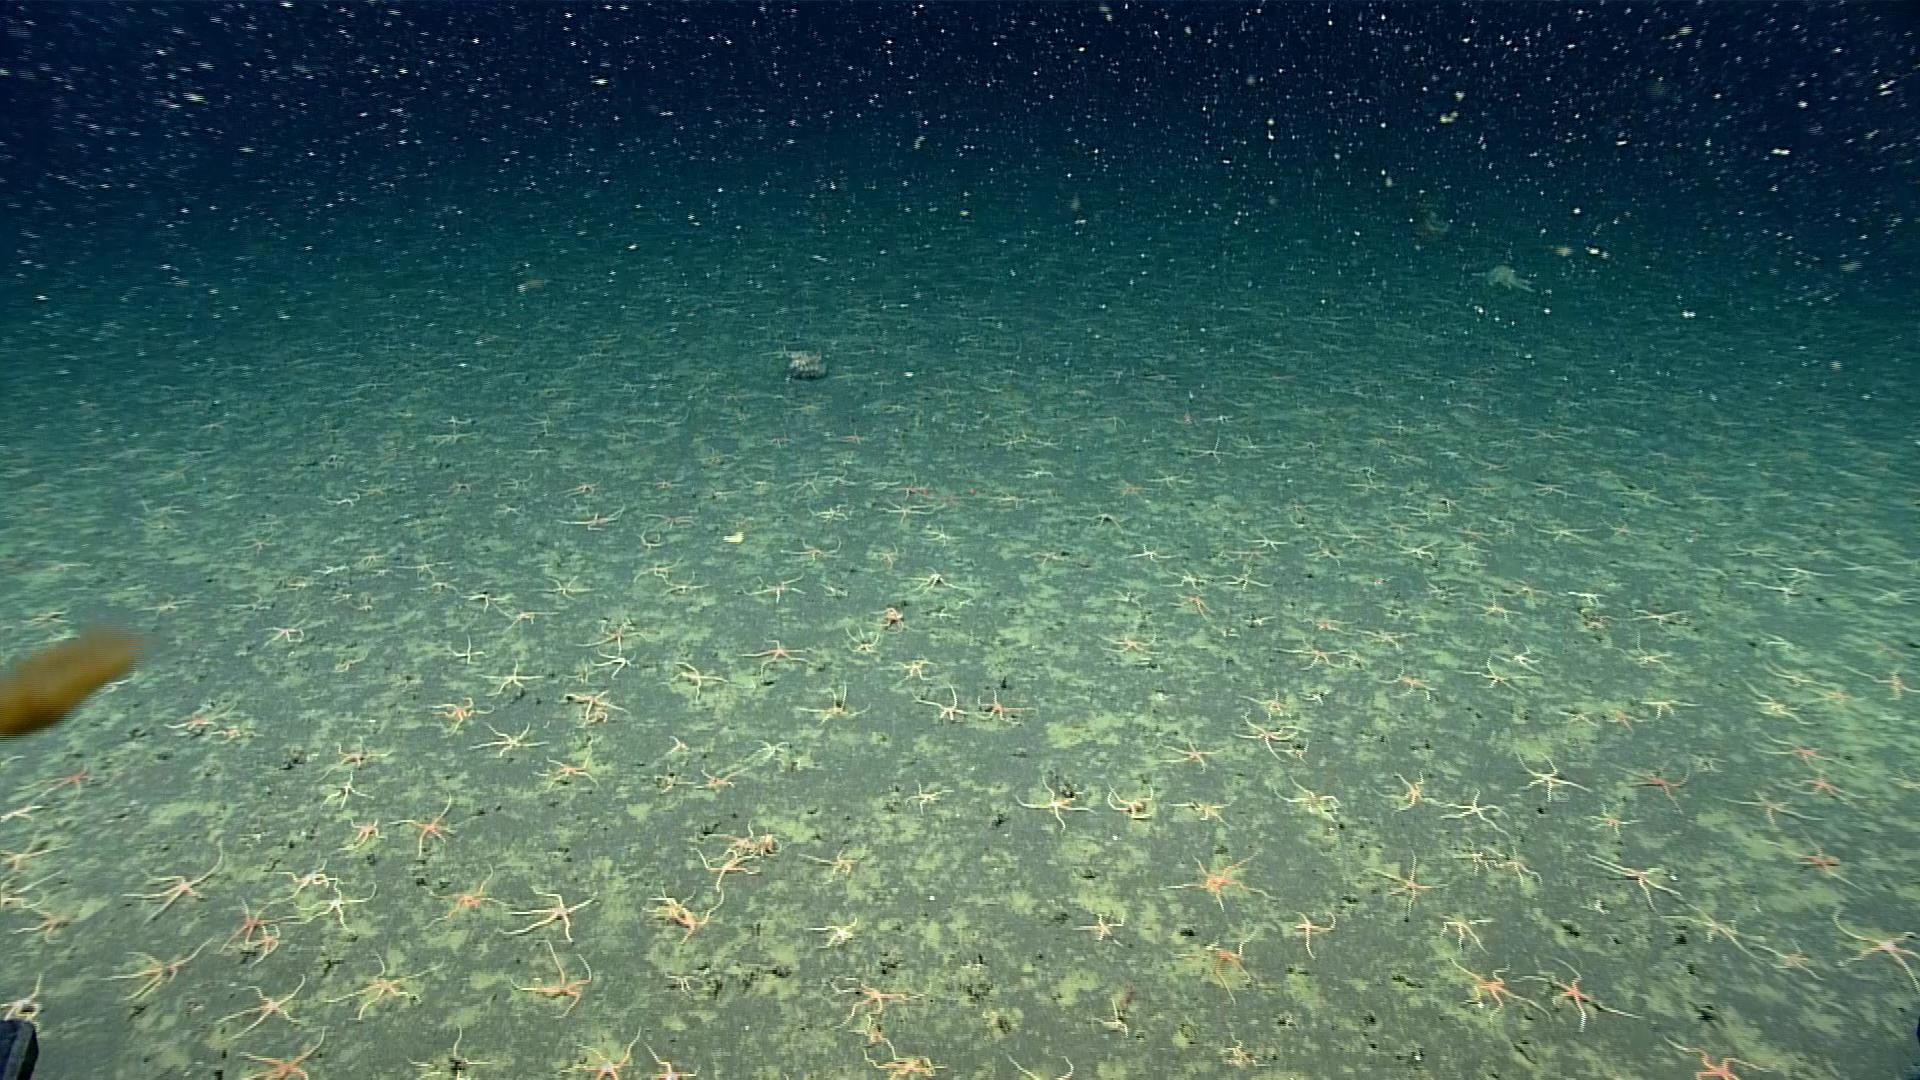brittle_sea_star: (324, 948, 443, 1025), (1519, 960, 1639, 1030), (121, 843, 227, 919), (1824, 905, 1919, 985), (506, 943, 595, 1021), (1156, 852, 1270, 911), (105, 940, 212, 1002), (1774, 828, 1866, 891), (497, 882, 597, 940), (1586, 856, 1687, 914), (215, 973, 307, 1035), (1665, 903, 1766, 959), (1449, 967, 1547, 1023), (229, 1026, 328, 1079), (816, 975, 913, 1029), (642, 881, 723, 943), (1185, 934, 1258, 1002), (425, 864, 500, 928), (406, 1023, 493, 1079), (1362, 856, 1443, 915), (1018, 773, 1097, 832), (388, 791, 456, 857), (1717, 786, 1821, 828), (289, 882, 376, 931), (556, 1029, 641, 1079), (1505, 754, 1592, 802), (220, 898, 281, 963), (1664, 1034, 1751, 1079), (860, 1036, 948, 1079), (695, 836, 758, 894), (791, 679, 864, 729), (1626, 762, 1692, 815), (1842, 659, 1919, 702), (1276, 774, 1346, 820), (21, 765, 92, 810), (469, 716, 545, 758), (527, 568, 601, 609), (1236, 712, 1296, 761), (1441, 787, 1509, 831), (423, 695, 492, 737), (1370, 771, 1439, 814), (1756, 731, 1832, 769), (273, 852, 331, 901), (735, 637, 807, 675), (1458, 657, 1528, 696), (479, 657, 549, 696), (1763, 940, 1826, 984), (533, 752, 600, 793), (562, 686, 626, 727), (1437, 914, 1501, 955), (0, 972, 53, 1019), (1276, 641, 1345, 675), (810, 914, 865, 955), (914, 684, 968, 725), (1799, 773, 1861, 808), (803, 840, 858, 880), (657, 662, 716, 699), (644, 1040, 700, 1079), (1171, 790, 1233, 824), (738, 733, 800, 767), (0, 865, 44, 914), (1163, 735, 1218, 773), (140, 585, 199, 621), (315, 773, 371, 810), (724, 823, 783, 857), (8, 913, 67, 947), (1292, 910, 1337, 955), (1573, 803, 1634, 836), (971, 690, 1029, 724), (1241, 684, 1298, 719), (0, 835, 54, 870), (560, 504, 626, 533), (322, 735, 376, 769), (1079, 913, 1131, 947), (574, 617, 630, 649), (1493, 851, 1539, 889), (1622, 641, 1675, 674), (165, 704, 216, 737), (1101, 628, 1160, 655), (1120, 535, 1182, 562), (1498, 638, 1543, 674), (1105, 789, 1155, 820), (748, 575, 802, 604), (781, 538, 843, 563), (903, 781, 948, 815), (1241, 524, 1291, 554), (585, 624, 636, 654), (1453, 844, 1497, 878), (1468, 592, 1519, 621), (840, 625, 884, 659), (891, 653, 938, 684), (229, 529, 285, 555), (1096, 998, 1131, 1039), (1166, 587, 1216, 615), (343, 816, 381, 852), (1382, 667, 1423, 700), (498, 604, 551, 629), (1635, 695, 1695, 716), (462, 587, 509, 613), (1164, 566, 1209, 593), (212, 720, 262, 744), (1759, 578, 1805, 603), (1639, 605, 1689, 628), (913, 566, 951, 593), (261, 620, 303, 645), (694, 769, 740, 791), (0, 800, 44, 824), (1605, 707, 1642, 733), (629, 560, 675, 582), (1226, 567, 1265, 591), (876, 608, 910, 632), (451, 638, 480, 666), (1886, 771, 1919, 794), (918, 526, 959, 543), (92, 679, 136, 695), (1394, 543, 1437, 559), (654, 771, 684, 791), (662, 731, 690, 752)
